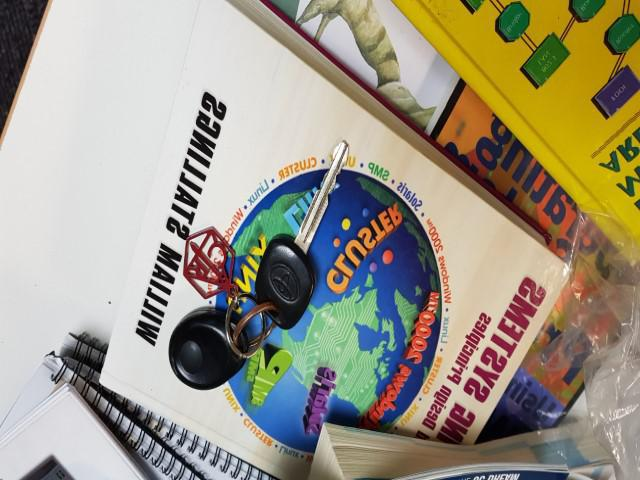key: (257, 141, 353, 328)
